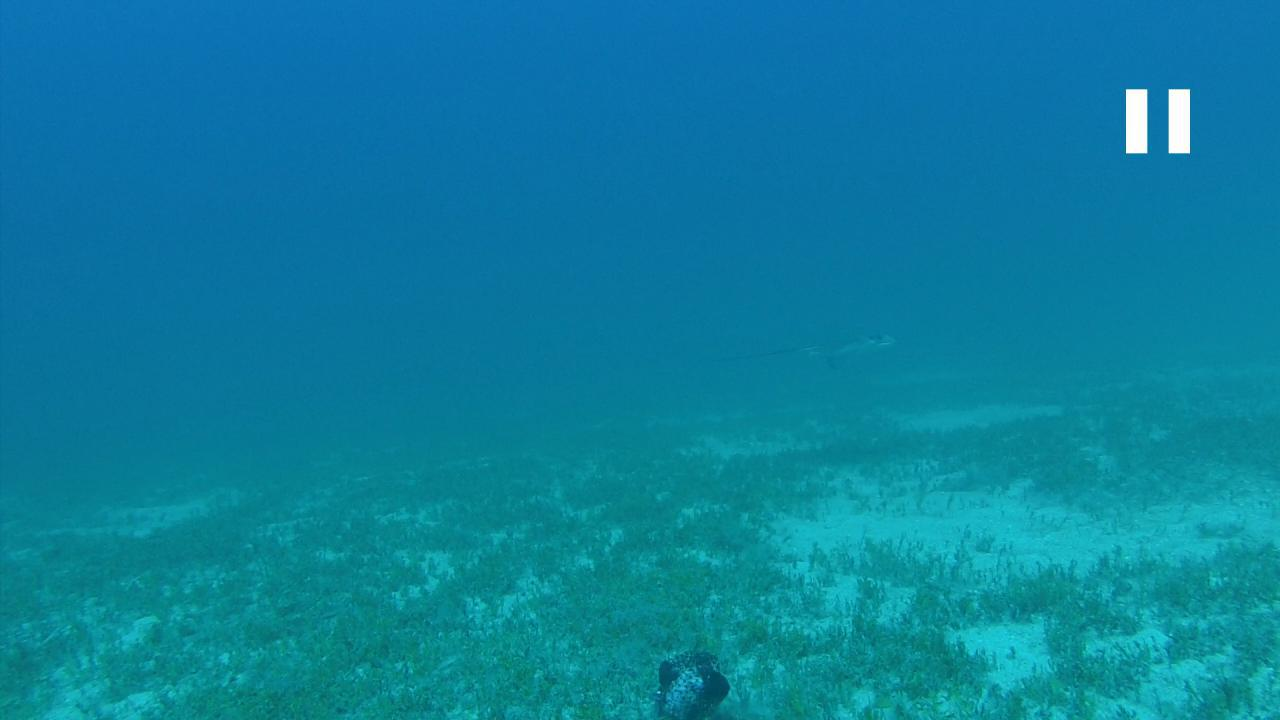dasyatis: (712, 327, 898, 365)
